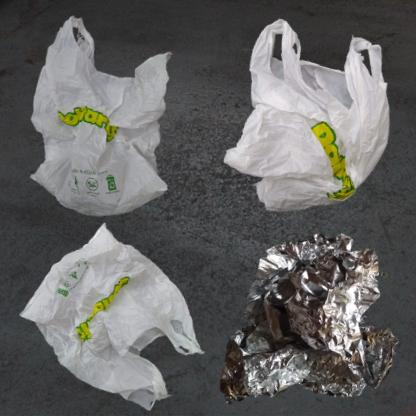aluminio: (213, 213, 416, 416)
bolsa: (213, 10, 416, 252), (10, 10, 213, 246), (10, 213, 213, 416)
